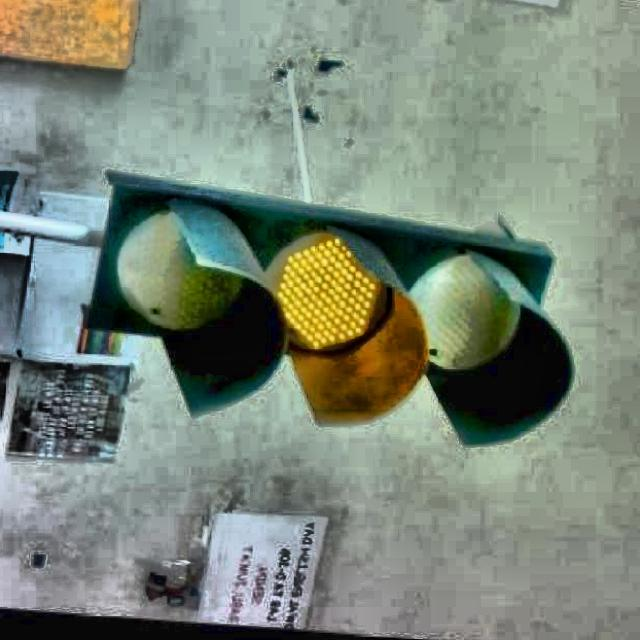yellow: (77, 207, 550, 388)
